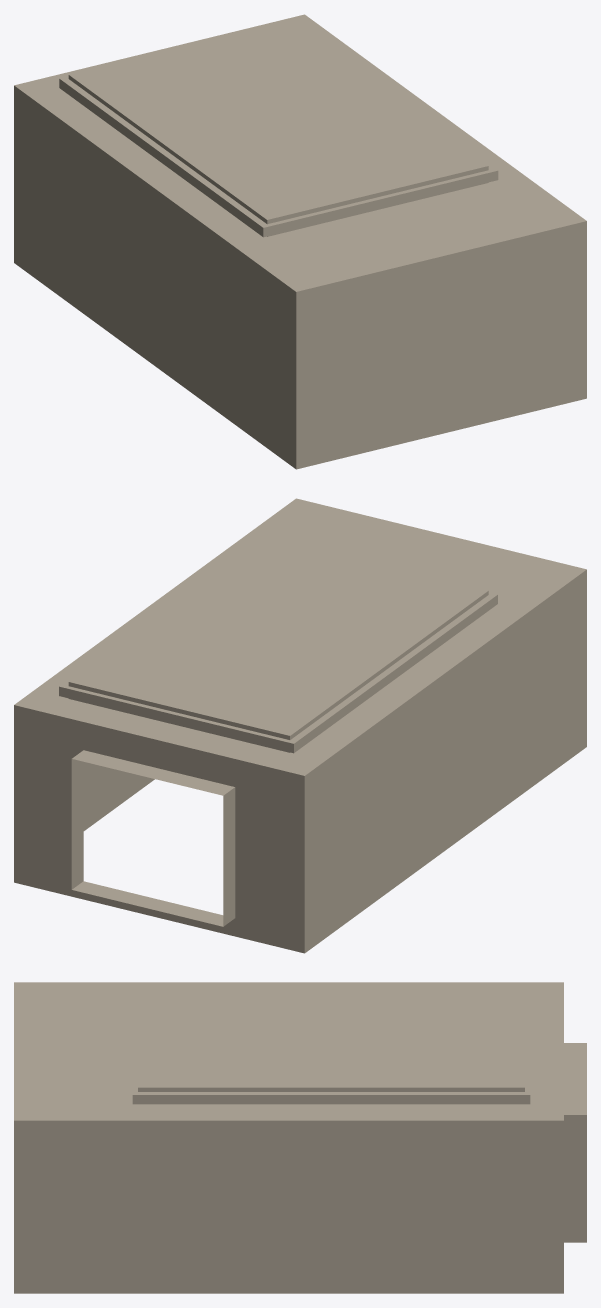
The model's file is Walls.fbx.
The picture shows the model from 3 angles, top to bottom: view 1: azimuth 30°, elevation 25°; view 2: azimuth 150°, elevation 25°; view 3: azimuth 270°, elevation 25°; orthographic projection. The views are drawn at different scales.
Parts seen in each view (by area): view 1: Walls; view 2: Walls; view 3: Walls.
Part boxes in pixels (x1,y1,x2,y2): Walls: (14,14,586,469); Walls: (14,498,586,953); Walls: (14,982,586,1293).
Size of the model in its own units: 4.57 by 2.92 by 8.01.
